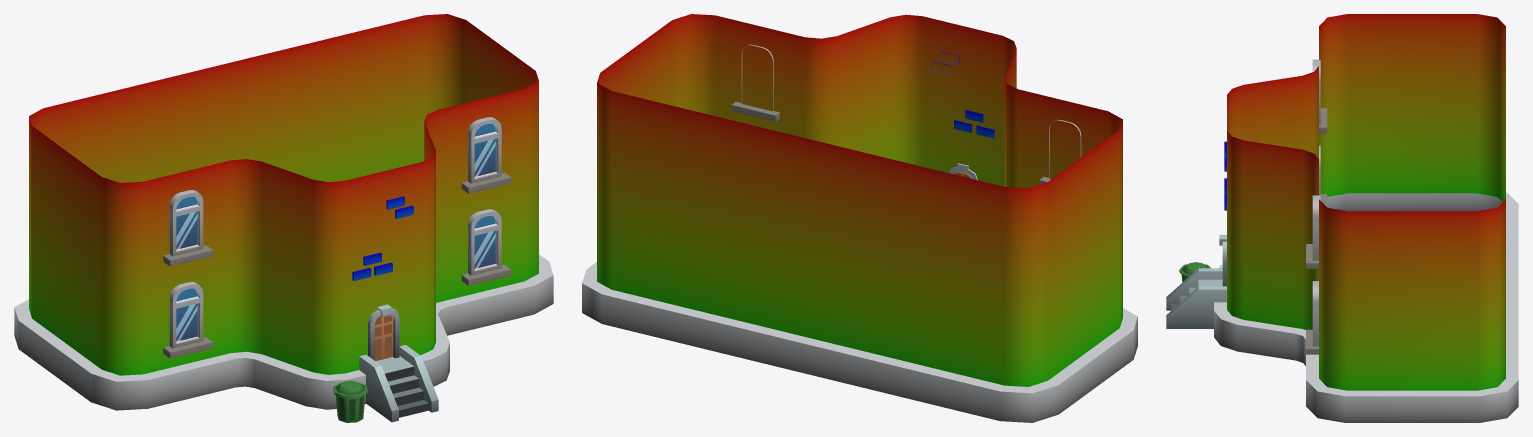
Rendered from House 1 Bottom.fbx.
3 views of the same model, side by side, from view 1: azimuth 30°, elevation 25°; view 2: azimuth 150°, elevation 25°; view 3: azimuth 270°, elevation 25° (orthographic). The views are drawn at different scales.
Visible parts, largest first — view 1: House3_bottom; view 2: House3_bottom; view 3: House3_bottom.
Boxes of the visible parts, bbox=[...] form: House3_bottom: bbox=[14, 14, 553, 422]; House3_bottom: bbox=[582, 14, 1137, 422]; House3_bottom: bbox=[1166, 14, 1518, 422].
Size of the model in its own units: 211 by 97.66 by 151.
